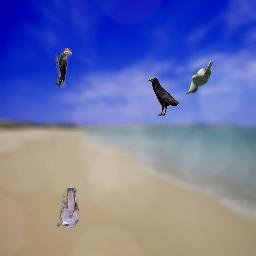Crow: (148, 76, 180, 116)
Cuckoo: (185, 60, 213, 94), (57, 188, 79, 228)
Woodpecker: (55, 48, 72, 88)
